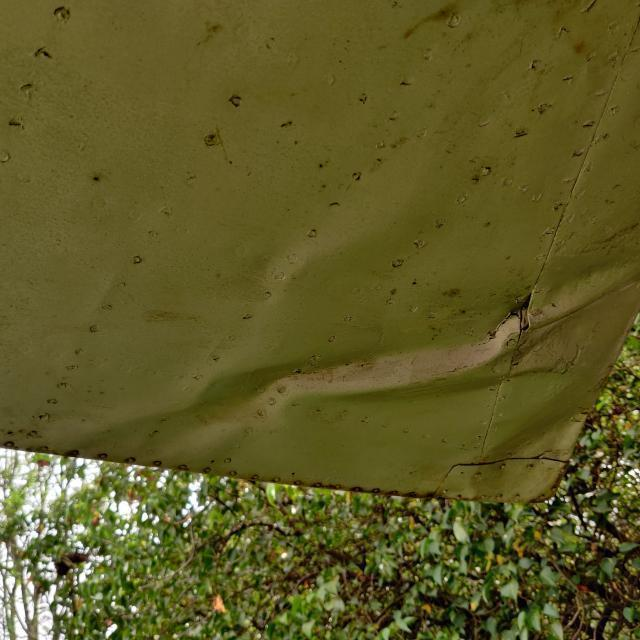Crack: (474, 306, 526, 349)
Dent: (49, 232, 640, 520), (466, 405, 588, 512)
